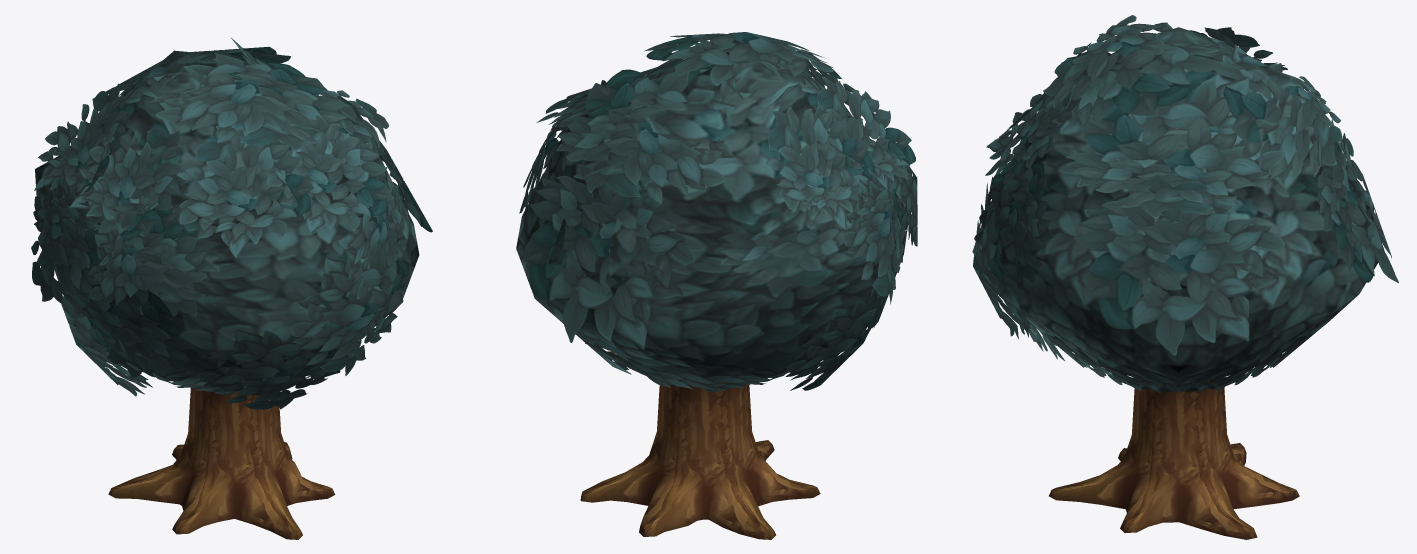
The model's file is RoundTree_2sides.FBX.
The picture shows the model from 3 angles, left to right: view 1: azimuth 30°, elevation 25°; view 2: azimuth 150°, elevation 25°; view 3: azimuth 270°, elevation 25°; orthographic projection. The views are drawn at different scales.
Parts seen in each view (by area): view 1: RoundTree_2sides; view 2: RoundTree_2sides; view 3: RoundTree_2sides.
Part boxes in pixels (x1=…): RoundTree_2sides: x1=31, y1=38, x2=432, y2=539; RoundTree_2sides: x1=516, y1=32, x2=917, y2=539; RoundTree_2sides: x1=972, y1=15, x2=1398, y2=539.
Size of the model in its own units: 78.29 by 78.9 by 89.72.
